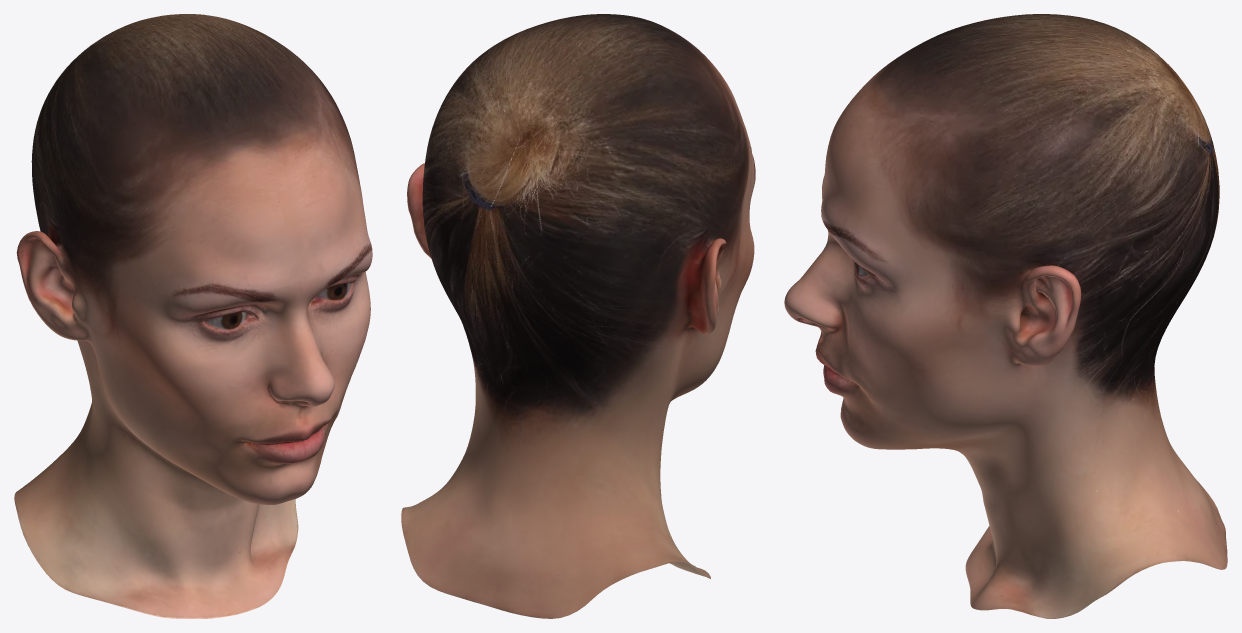
File: 真人头像_女_CDMR_Reference_Female_opt.glb
3 views of the same model, side by side, from view 1: azimuth 30°, elevation 25°; view 2: azimuth 150°, elevation 25°; view 3: azimuth 270°, elevation 25° (orthographic). The views are drawn at different scales.
Visible parts, largest first — view 1: Misty_Romano_Headshot_15_LP_ex5_defaultMat; view 2: Misty_Romano_Headshot_15_LP_ex5_defaultMat; view 3: Misty_Romano_Headshot_15_LP_ex5_defaultMat.
Boxes of the visible parts, box(x1,y1,x2,y2) form: Misty_Romano_Headshot_15_LP_ex5_defaultMat: box(14, 14, 372, 618); Misty_Romano_Headshot_15_LP_ex5_defaultMat: box(401, 14, 755, 618); Misty_Romano_Headshot_15_LP_ex5_defaultMat: box(784, 14, 1227, 618).
Bounding box in the file's own units: 0.2356 × 0.4 × 0.2856.
Materials: 2 (1 with a texture image).
